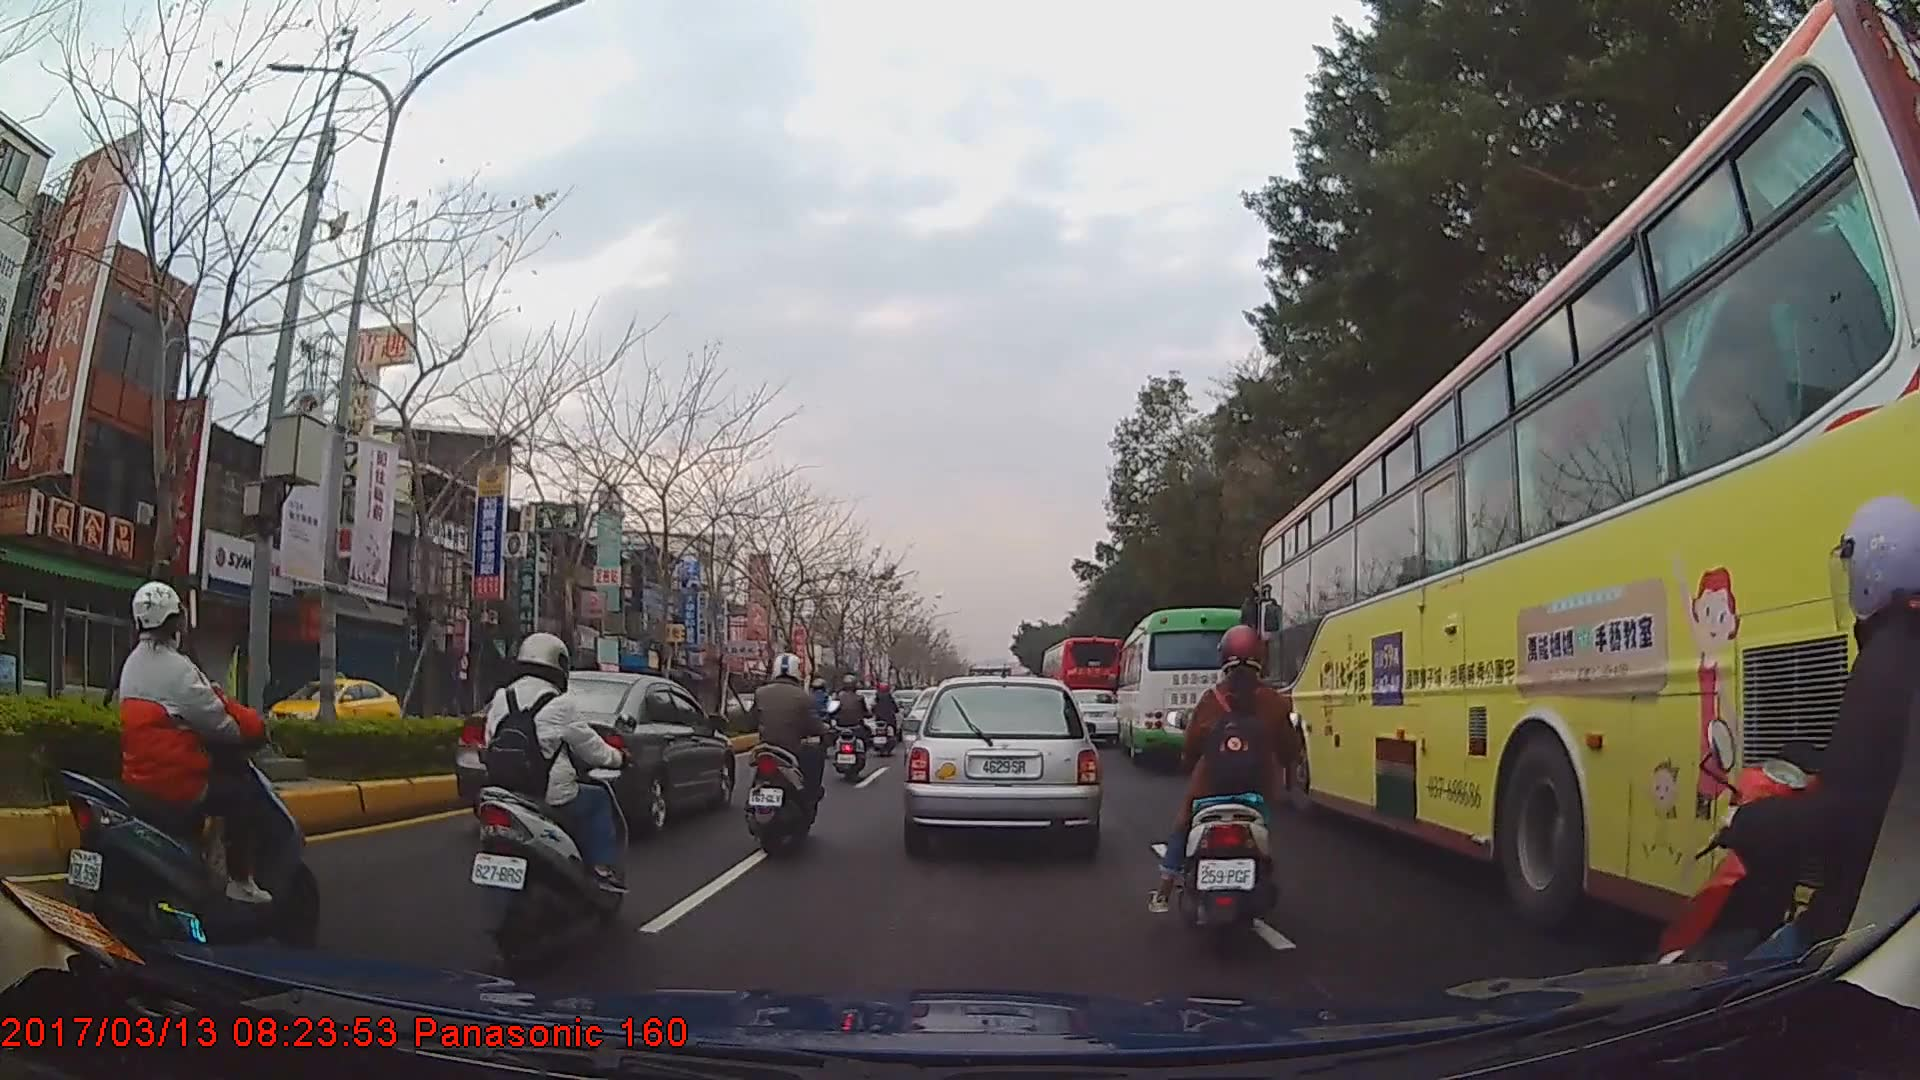rider: (1650, 493, 1920, 1046), (45, 578, 314, 966), (471, 632, 633, 963), (1153, 625, 1306, 956), (743, 651, 832, 859), (831, 675, 872, 782), (871, 680, 900, 757), (807, 675, 839, 741)
vehicle: (1257, 7, 1920, 941), (453, 671, 734, 835), (904, 671, 1099, 852), (1115, 605, 1258, 767), (261, 666, 405, 744), (1042, 633, 1128, 736)
